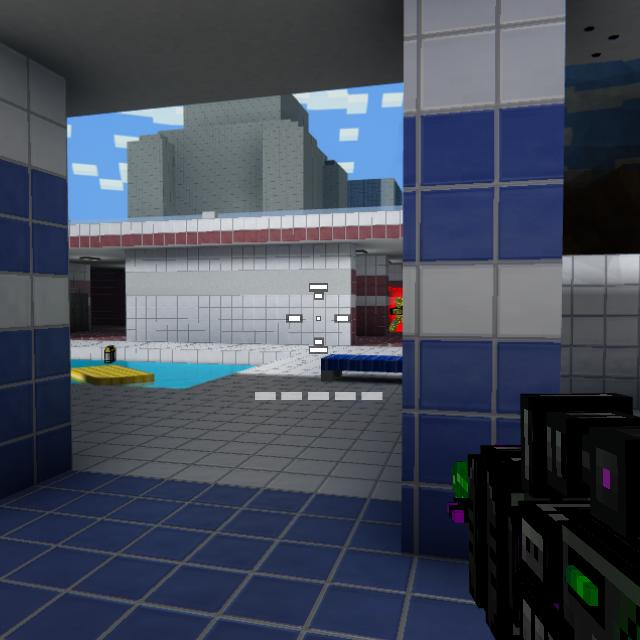Enemy: (389, 297, 403, 332)
